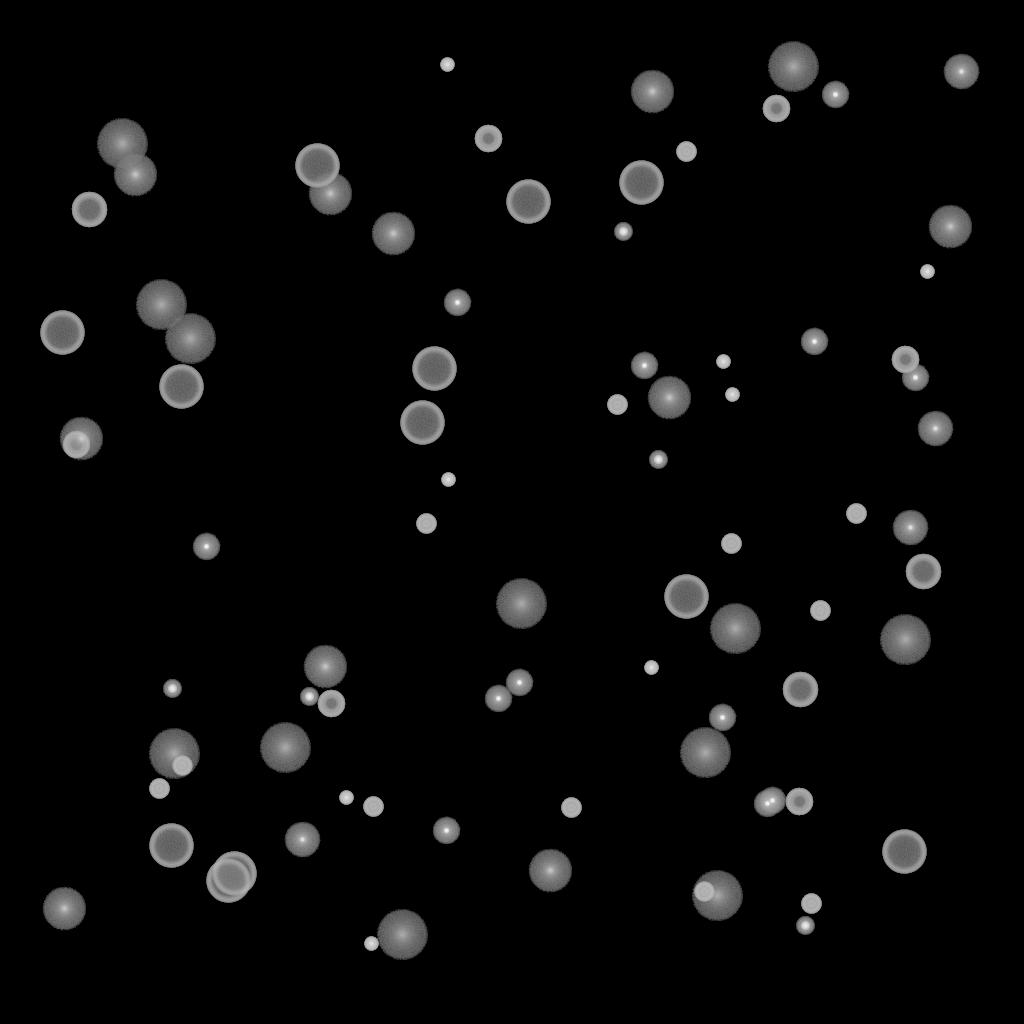depth:-10: (432, 817, 460, 845), (630, 352, 658, 380), (708, 704, 736, 732), (192, 533, 220, 561), (901, 364, 929, 392), (821, 81, 849, 109), (800, 328, 828, 356), (758, 787, 786, 815), (505, 669, 533, 697), (443, 289, 471, 317), (484, 685, 512, 713), (753, 790, 781, 818)
depth:-20: (649, 451, 667, 469), (300, 688, 318, 706), (614, 223, 632, 241), (163, 680, 181, 698), (796, 917, 814, 935)
depth:-30: (441, 473, 455, 487), (339, 791, 353, 805), (920, 265, 934, 279), (644, 661, 658, 675), (725, 388, 739, 402), (440, 58, 454, 72), (716, 355, 730, 369), (364, 937, 378, 951)
depth:-40: (676, 142, 696, 162), (363, 797, 383, 817), (561, 798, 581, 818), (149, 779, 169, 799), (721, 534, 741, 554), (810, 601, 830, 621), (416, 514, 436, 534), (694, 882, 714, 902), (801, 894, 821, 914), (846, 504, 866, 524), (172, 756, 192, 776), (607, 395, 627, 415)
depth:-50: (317, 690, 345, 718), (474, 125, 502, 153), (891, 346, 919, 374), (785, 788, 813, 816), (62, 431, 90, 459), (762, 95, 790, 123)
depth:-60: (71, 192, 107, 228), (782, 672, 818, 708), (905, 554, 941, 590)
depth:-70: (619, 161, 663, 205), (206, 859, 250, 903), (295, 144, 339, 188), (212, 852, 256, 896), (159, 365, 203, 409), (40, 311, 84, 355), (664, 575, 708, 619), (506, 180, 550, 224), (882, 830, 926, 874), (149, 824, 193, 868), (400, 401, 444, 445), (412, 347, 456, 391)
depth:0: (943, 54, 979, 90), (917, 411, 953, 447), (892, 510, 928, 546), (284, 822, 320, 858)
depth:10: (928, 205, 972, 249), (113, 153, 157, 197), (308, 172, 352, 216), (42, 887, 86, 931), (303, 645, 347, 689), (528, 849, 572, 893), (59, 417, 103, 461), (647, 376, 691, 420), (630, 70, 674, 114), (371, 212, 415, 256)
depth:20: (135, 280, 187, 330), (495, 579, 547, 629), (148, 729, 200, 779), (767, 42, 819, 92), (879, 615, 931, 665), (259, 723, 311, 773), (164, 314, 216, 364), (709, 604, 761, 654), (376, 910, 428, 960), (96, 119, 148, 169), (679, 728, 731, 778), (691, 871, 743, 921)
